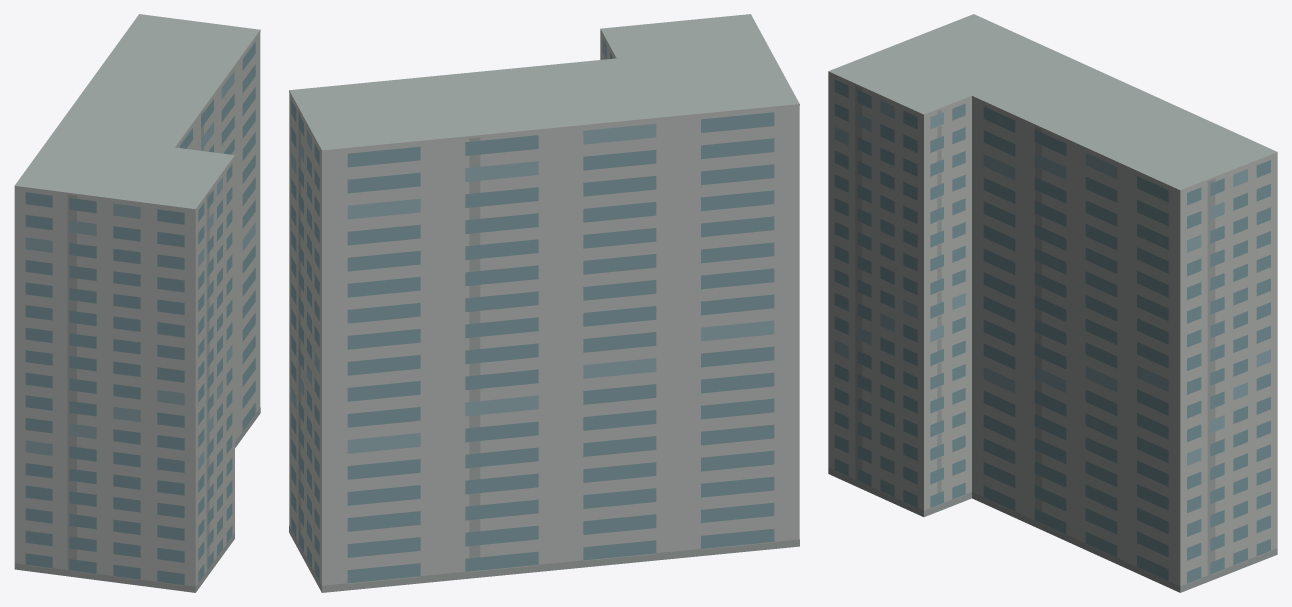
The model's file is residential-b3164e29-2a13-42fb-9331-cf9f60f28f8e.glb.
3 views of the same model, side by side, from view 1: azimuth 30°, elevation 25°; view 2: azimuth 150°, elevation 25°; view 3: azimuth 270°, elevation 25° (orthographic). The views are drawn at different scales.
Visible parts, largest first — view 1: residential-b3164e29-2a13-42fb-9331-cf9f60f28f8e.tmp; view 2: residential-b3164e29-2a13-42fb-9331-cf9f60f28f8e.tmp; view 3: residential-b3164e29-2a13-42fb-9331-cf9f60f28f8e.tmp.
Boxes of the visible parts, x1,y1,x2,y2 form: residential-b3164e29-2a13-42fb-9331-cf9f60f28f8e.tmp: (14,14,260,592); residential-b3164e29-2a13-42fb-9331-cf9f60f28f8e.tmp: (289,14,799,592); residential-b3164e29-2a13-42fb-9331-cf9f60f28f8e.tmp: (828,14,1277,592).
Size of the model in its own units: 48.71 by 51.85 by 52.46.
